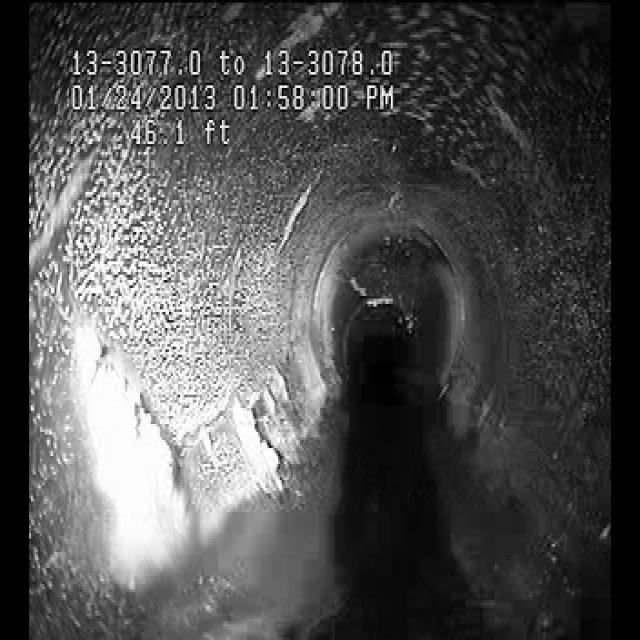Fracture: (94, 338, 306, 566)
